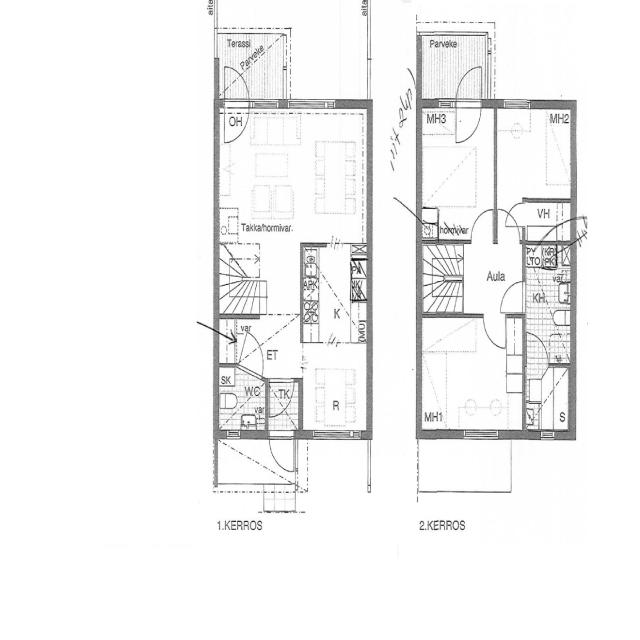door: (218, 61, 252, 147), (452, 62, 484, 144), (480, 310, 510, 353), (496, 276, 528, 316), (237, 330, 267, 372), (268, 430, 297, 473), (269, 376, 296, 418), (523, 327, 549, 366), (469, 206, 496, 242), (502, 199, 529, 231)
window: (421, 95, 456, 138), (286, 90, 340, 116), (309, 426, 364, 446), (460, 424, 506, 444), (250, 93, 286, 118), (435, 86, 457, 118), (531, 96, 570, 110), (500, 95, 532, 110), (538, 427, 558, 444), (223, 427, 246, 439)
zone: (217, 103, 372, 238), (418, 314, 524, 435), (493, 104, 575, 200), (420, 120, 495, 222), (300, 241, 368, 344), (302, 339, 371, 436), (524, 248, 574, 364), (215, 364, 268, 435), (523, 364, 572, 434), (522, 197, 576, 241), (421, 96, 456, 139)
